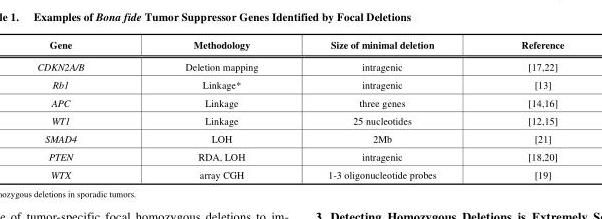table: (36, 37, 563, 180)
table column: (292, 37, 478, 180), (134, 37, 292, 180), (36, 37, 134, 180), (478, 37, 563, 180)
table column header: (36, 37, 563, 55)
table row: (36, 55, 563, 74), (36, 37, 563, 55), (36, 74, 563, 92), (36, 92, 563, 110), (36, 110, 563, 128), (36, 128, 563, 146), (36, 146, 563, 164), (36, 164, 563, 180)
